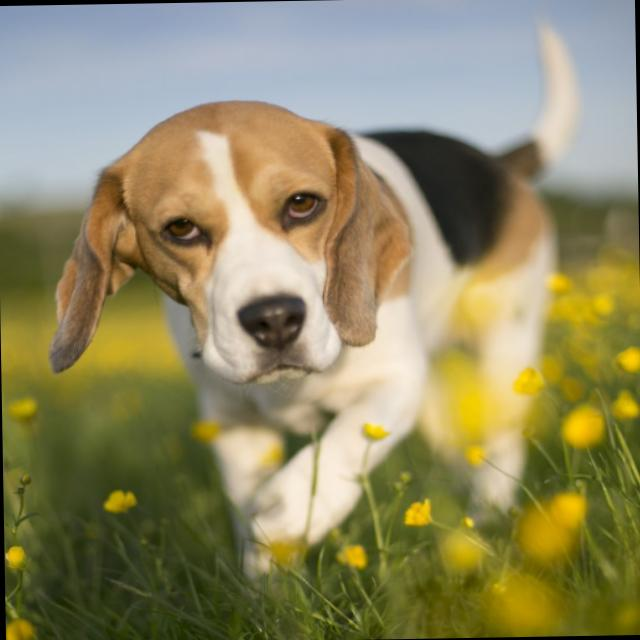dogs: (39, 24, 584, 586)
